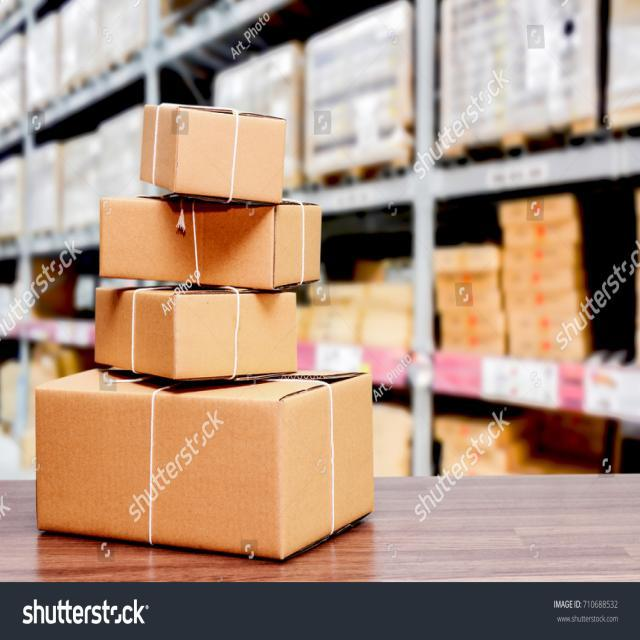BoxFace: (35, 386, 284, 562), (100, 194, 274, 290), (176, 103, 286, 205), (175, 292, 296, 381)
